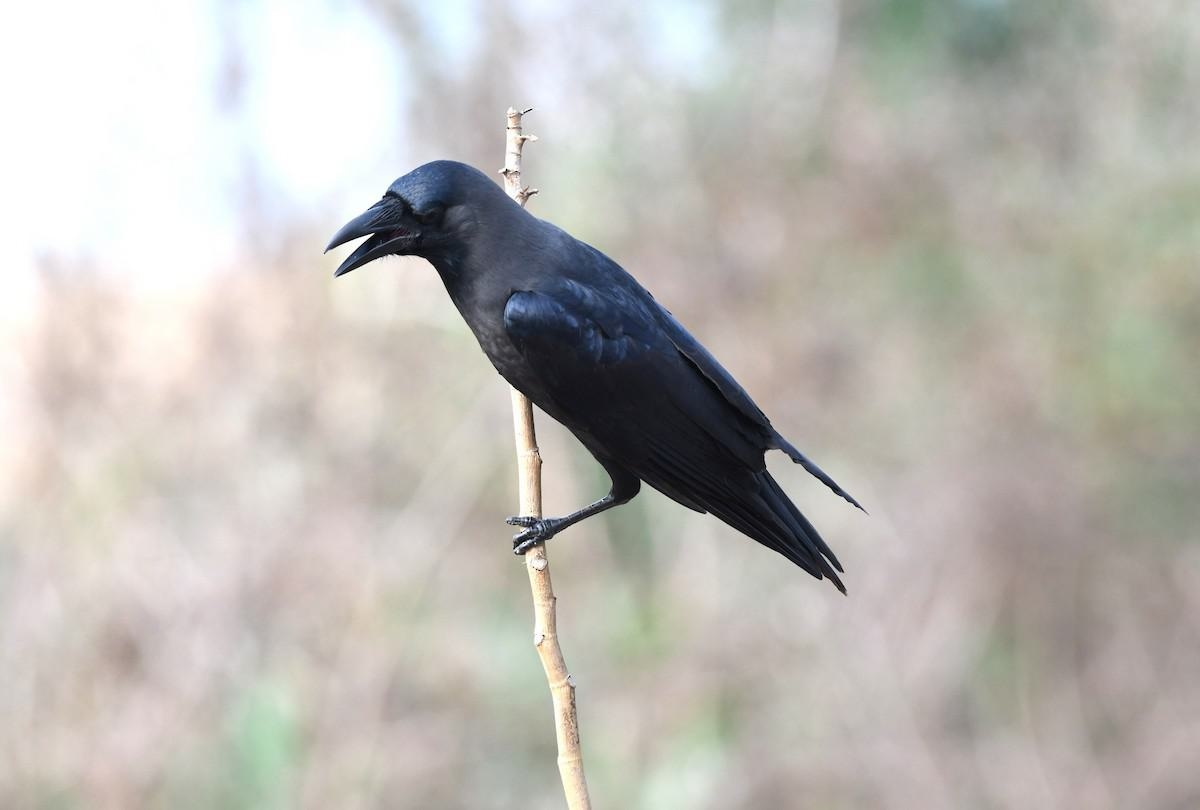crow: (328, 140, 850, 602)
